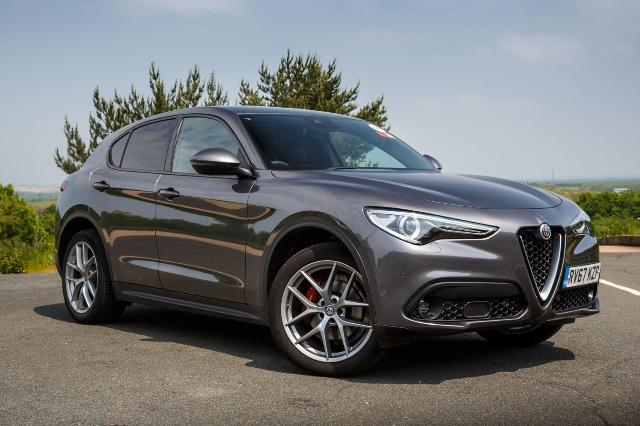alpha-romeo: (54, 105, 602, 379)
